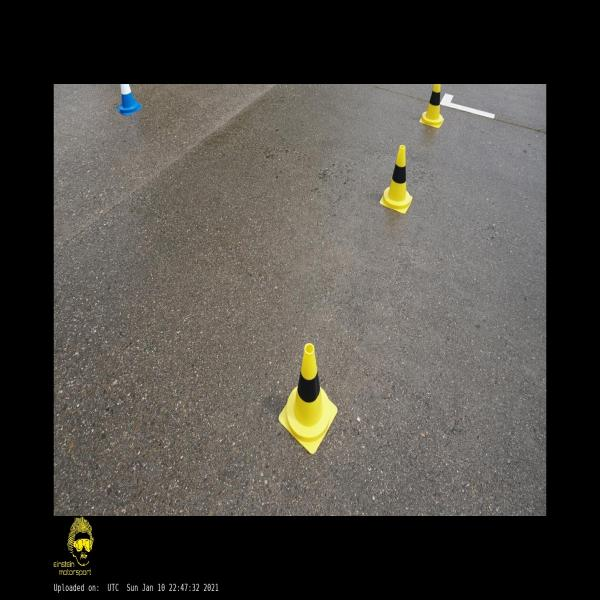blue_cone: (116, 84, 142, 116)
yellow_cone: (279, 344, 338, 456), (379, 145, 412, 214), (419, 84, 444, 128)
